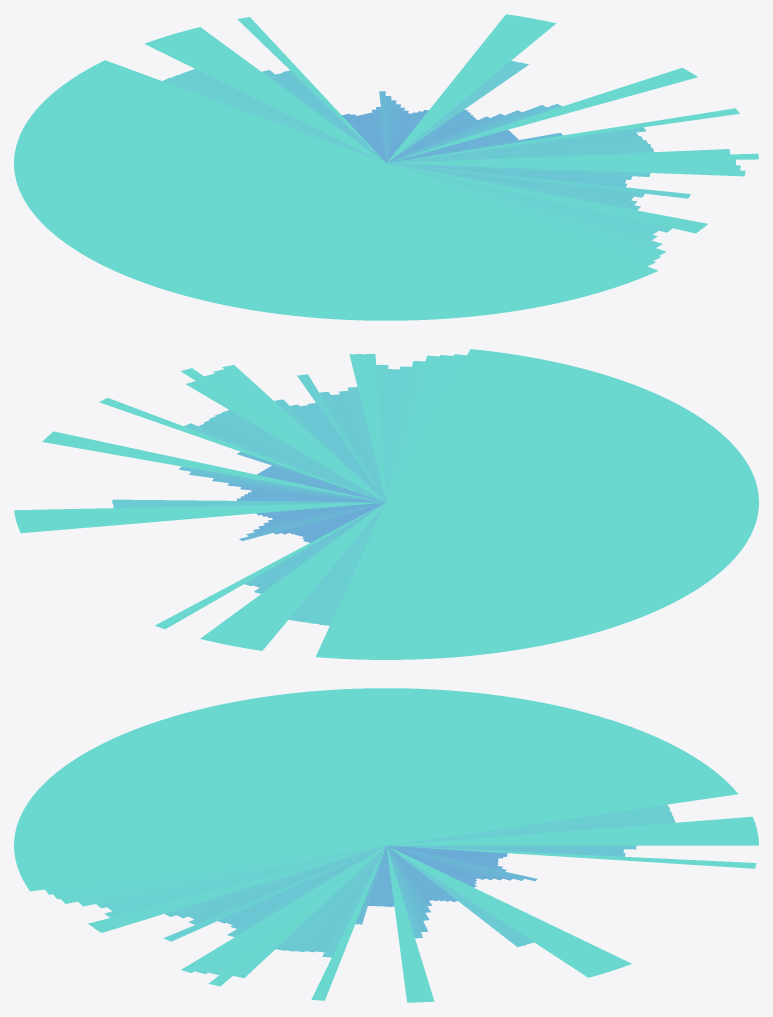
3 renders of one model, top to bottom at view 1: azimuth 30°, elevation 25°; view 2: azimuth 150°, elevation 25°; view 3: azimuth 270°, elevation 25°, orthographic.
Parts seen in each view (by area): view 1: daf90c16-3494-4528-950b-d8bbfea3eaa4_mesh; view 2: daf90c16-3494-4528-950b-d8bbfea3eaa4_mesh; view 3: daf90c16-3494-4528-950b-d8bbfea3eaa4_mesh.
Boxes of the visible parts, left/top/right/bottom form: daf90c16-3494-4528-950b-d8bbfea3eaa4_mesh: left=14, top=14, right=758, bottom=320; daf90c16-3494-4528-950b-d8bbfea3eaa4_mesh: left=14, top=349, right=758, bottom=659; daf90c16-3494-4528-950b-d8bbfea3eaa4_mesh: left=14, top=688, right=758, bottom=1002.
Bounding box in the file's own units: 1302 × 8.53e-14 × 1303.
